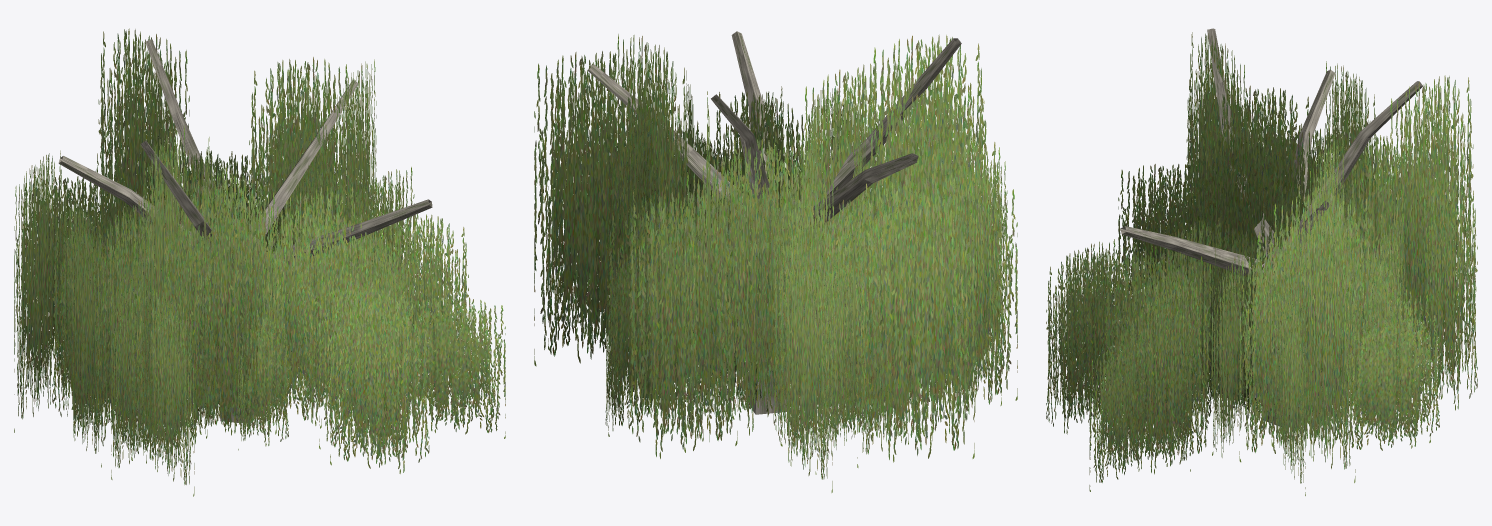
The model's file is Tree_Willow_2_LOD2.gltf.
The picture shows the model from 3 angles, left to right: view 1: azimuth 30°, elevation 25°; view 2: azimuth 150°, elevation 25°; view 3: azimuth 270°, elevation 25°; orthographic projection. The views are drawn at different scales.
Visible parts, largest first — view 1: Tree_Willow_2_LOD2; view 2: Tree_Willow_2_LOD2; view 3: Tree_Willow_2_LOD2.
Part boxes in pixels (x1=…): Tree_Willow_2_LOD2: x1=14, y1=28, x2=505, y2=496; Tree_Willow_2_LOD2: x1=534, y1=31, x2=1017, y2=492; Tree_Willow_2_LOD2: x1=1046, y1=28, x2=1477, y2=495.
Size of the model in its own units: 12.24 by 10.35 by 11.85.
2 materials, 2 textured.
